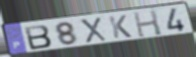4: (166, 7, 187, 34)
8: (53, 21, 80, 46)
B: (23, 24, 53, 51)
H: (132, 9, 164, 39)
K: (108, 14, 134, 40)
X: (78, 16, 109, 44)
